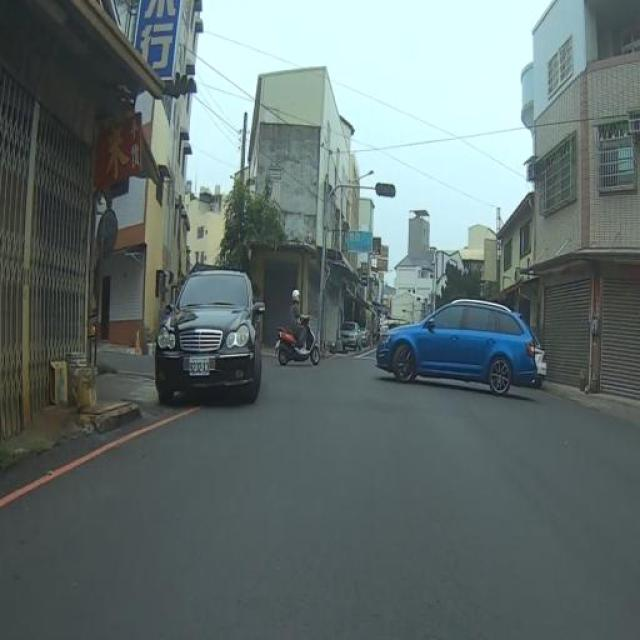illegalparking: (376, 299, 545, 395), (155, 270, 264, 401)
